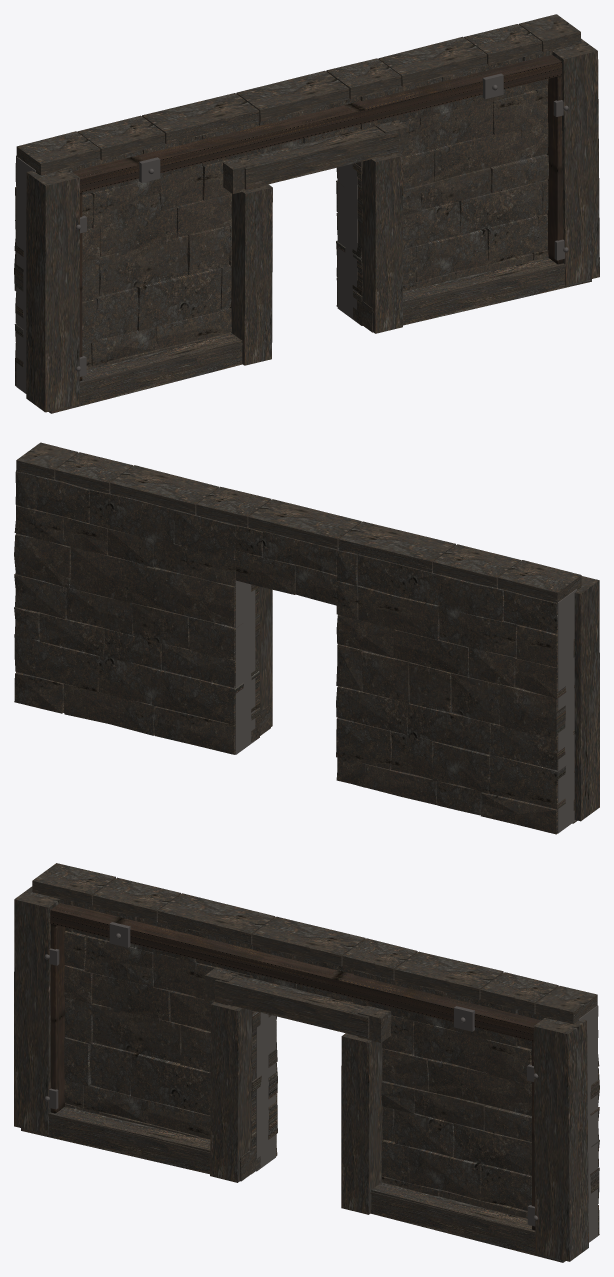
File: wall_front_v006_preview.glb
3 renders of one model, top to bottom at view 1: azimuth 30°, elevation 25°; view 2: azimuth 150°, elevation 25°; view 3: azimuth 330°, elevation 25°, orthographic.
Parts seen in each view (by area): view 1: GENESIS_BATCH_Quarry basalt / dark warm PBR, GENESIS_BATCH_Basalt - mineral warm variance, GENESIS_BATCH_Blackened ironstone coping / dark scanned, GENESIS_BATCH_Soot deposits - char and oxide, GENESIS_BATCH_Oak / fire seasoned PBR, GENESIS_BATCH_Recessed stone mortar / dark, GENESIS_BATCH_Oxidized forged iron; view 2: GENESIS_BATCH_Quarry basalt / dark warm PBR, GENESIS_BATCH_Soot deposits - char and oxide, GENESIS_BATCH_Blackened ironstone coping / dark scanned, GENESIS_BATCH_Basalt - mineral warm variance, GENESIS_BATCH_Recessed stone mortar / dark; view 3: GENESIS_BATCH_Quarry basalt / dark warm PBR, GENESIS_BATCH_Basalt - mineral warm variance, GENESIS_BATCH_Blackened ironstone coping / dark scanned, GENESIS_BATCH_Soot deposits - char and oxide, GENESIS_BATCH_Oak / fire seasoned PBR, GENESIS_BATCH_Recessed stone mortar / dark, GENESIS_BATCH_Oxidized forged iron.
Part boxes in pixels (bbox=[...]): GENESIS_BATCH_Quarry basalt / dark warm PBR: bbox=[14, 38, 599, 413]; GENESIS_BATCH_Basalt - mineral warm variance: bbox=[91, 126, 591, 333]; GENESIS_BATCH_Blackened ironstone coping / dark scanned: bbox=[16, 14, 580, 174]; GENESIS_BATCH_Soot deposits - char and oxide: bbox=[15, 57, 565, 384]; GENESIS_BATCH_Oak / fire seasoned PBR: bbox=[72, 55, 563, 380]; GENESIS_BATCH_Recessed stone mortar / dark: bbox=[16, 156, 357, 393]; GENESIS_BATCH_Oxidized forged iron: bbox=[76, 73, 568, 376]; GENESIS_BATCH_Quarry basalt / dark warm PBR: bbox=[14, 471, 599, 834]; GENESIS_BATCH_Soot deposits - char and oxide: bbox=[14, 509, 574, 815]; GENESIS_BATCH_Blackened ironstone coping / dark scanned: bbox=[16, 442, 581, 603]; GENESIS_BATCH_Basalt - mineral warm variance: bbox=[66, 586, 515, 793]; GENESIS_BATCH_Recessed stone mortar / dark: bbox=[16, 470, 577, 833]; GENESIS_BATCH_Quarry basalt / dark warm PBR: bbox=[14, 886, 599, 1261]; GENESIS_BATCH_Basalt - mineral warm variance: bbox=[84, 917, 565, 1262]; GENESIS_BATCH_Blackened ironstone coping / dark scanned: bbox=[32, 863, 597, 1023]; GENESIS_BATCH_Soot deposits - char and oxide: bbox=[48, 931, 599, 1233]; GENESIS_BATCH_Oak / fire seasoned PBR: bbox=[50, 903, 540, 1230]; GENESIS_BATCH_Recessed stone mortar / dark: bbox=[256, 1005, 597, 1242]; GENESIS_BATCH_Oxidized forged iron: bbox=[44, 922, 538, 1226].
Size of the model in its own units: 8.07 by 3.37 by 1.01.
8 materials, 6 textured.
